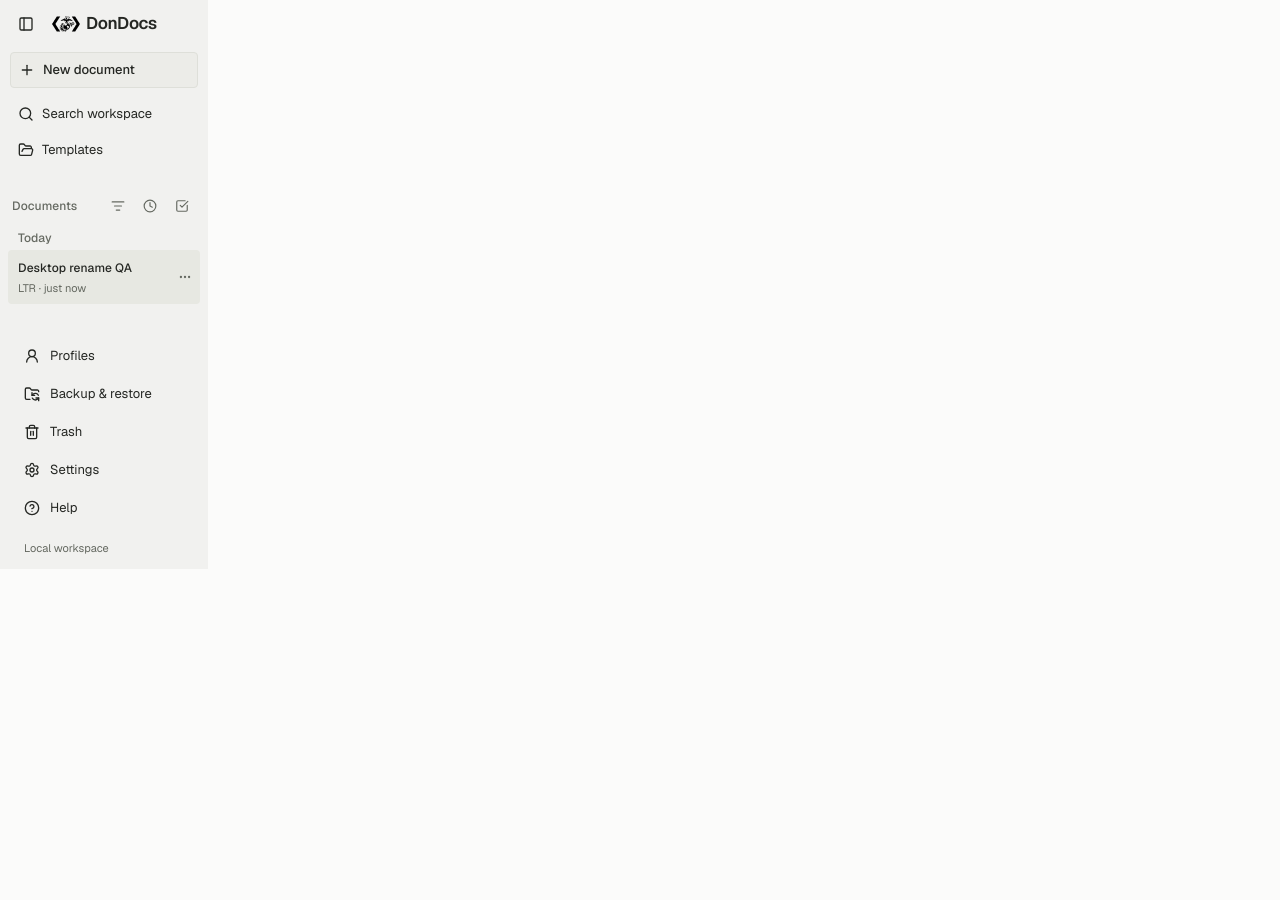
focuses desktop rename after its menu closes and cancels without changing the draft
The image size is (1280, 900).
Click the button named "Actions for Desktop rename QA": click(185, 277) [174,266,196,288]
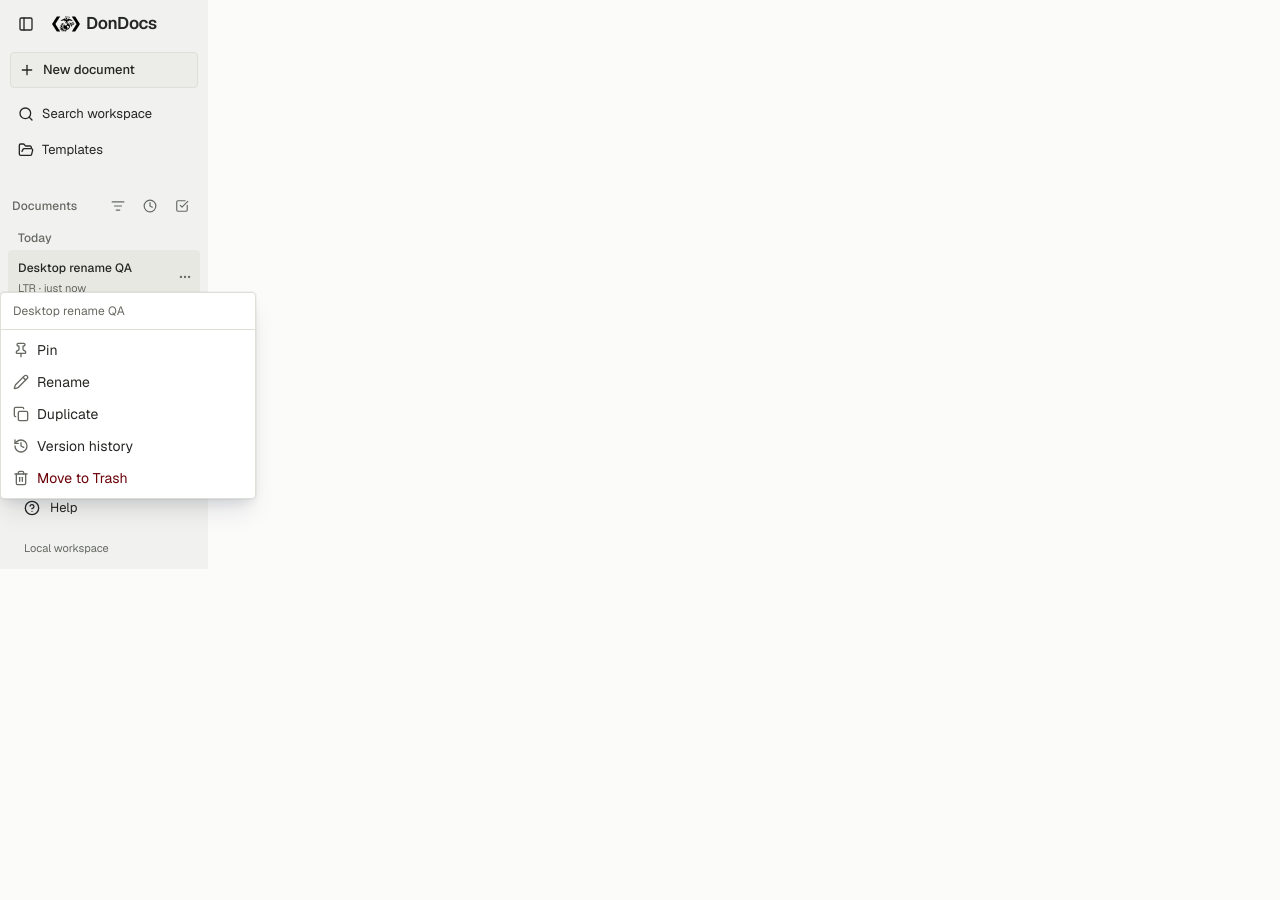
Click the menu item "Rename": click(52, 382) [13,373,90,391]
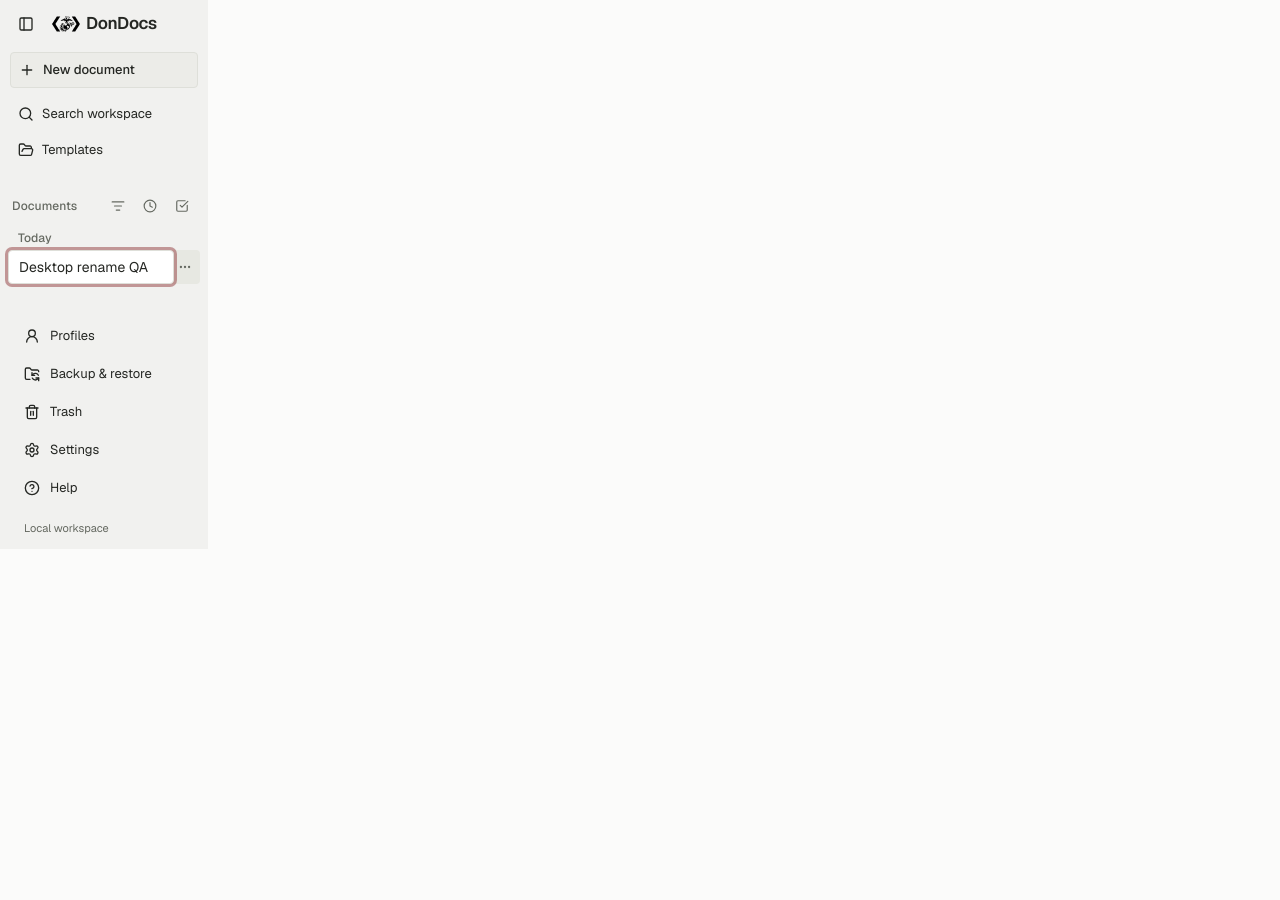
In the field named "Rename Desktop rename QA": (91, 267) [8,250,174,284], type " canceled"
Then press Escape
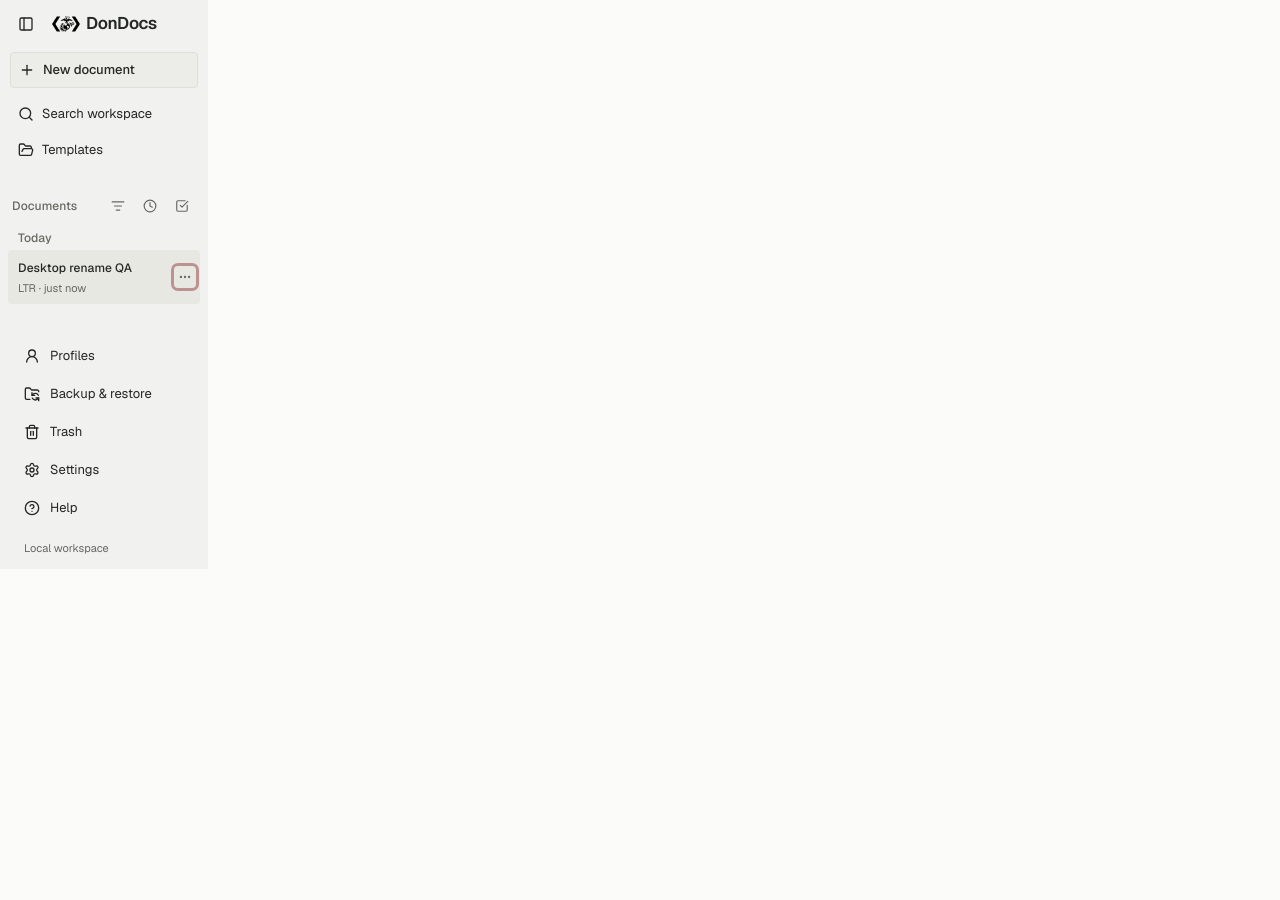
Expected: the text "Desktop rename QA" is shown, [18,260,132,276]
